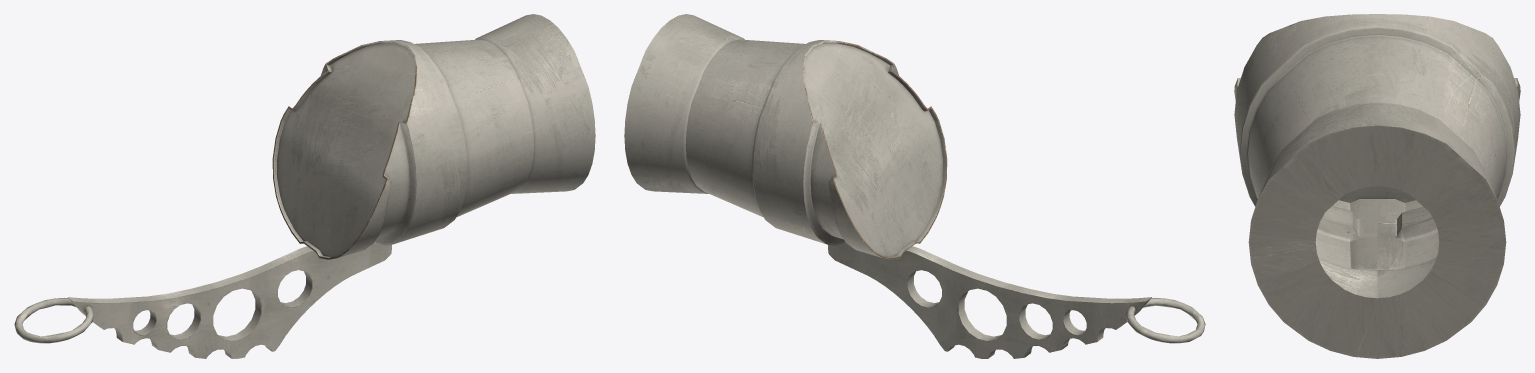
Rendered from pommel_17_r_d.glb.
3 renders of one model, left to right at view 1: azimuth 30°, elevation 25°; view 2: azimuth 150°, elevation 25°; view 3: azimuth 270°, elevation 25°, orthographic. The views are drawn at different scales.
Visible parts, largest first — view 1: pommel_17_r_d_lod0; view 2: pommel_17_r_d_lod0; view 3: pommel_17_r_d_lod0.
Boxes of the visible parts, box(x1,y1,x2,y2) form: pommel_17_r_d_lod0: box(14, 14, 595, 358); pommel_17_r_d_lod0: box(624, 14, 1205, 358); pommel_17_r_d_lod0: box(1234, 14, 1520, 358).
Size of what is drawn, in the model's own units: 0.0989 by 0.0481 by 0.0326.
1 material, 1 textured.
